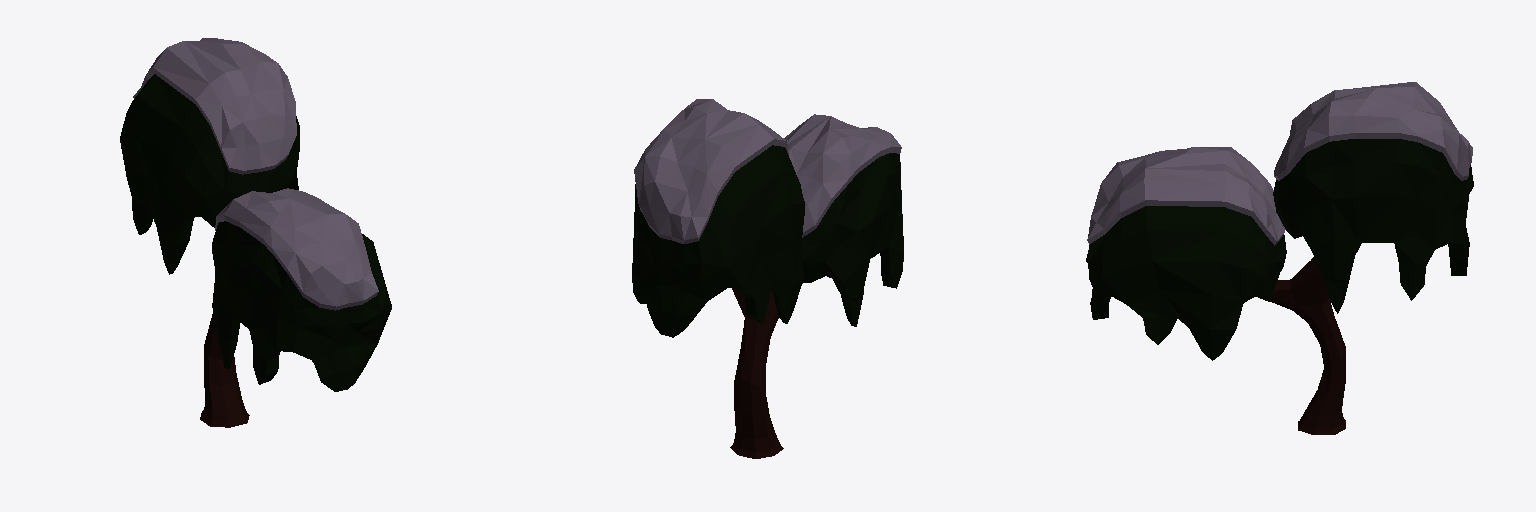
The model's file is Willow_Snow_5.obj.
3 views of the same model, side by side, from view 1: azimuth 30°, elevation 25°; view 2: azimuth 150°, elevation 25°; view 3: azimuth 270°, elevation 25° (orthographic).
Visible parts, largest first — view 1: Willow_Snow_5_Cube.141; view 2: Willow_Snow_5_Cube.141; view 3: Willow_Snow_5_Cube.141.
Boxes of the visible parts, box(x1,y1,x2,y2) form: Willow_Snow_5_Cube.141: box(120, 38, 391, 427); Willow_Snow_5_Cube.141: box(632, 99, 903, 458); Willow_Snow_5_Cube.141: box(1086, 82, 1473, 434).
Bounding box in the file's own units: 1.01 × 2.46 × 2.49.